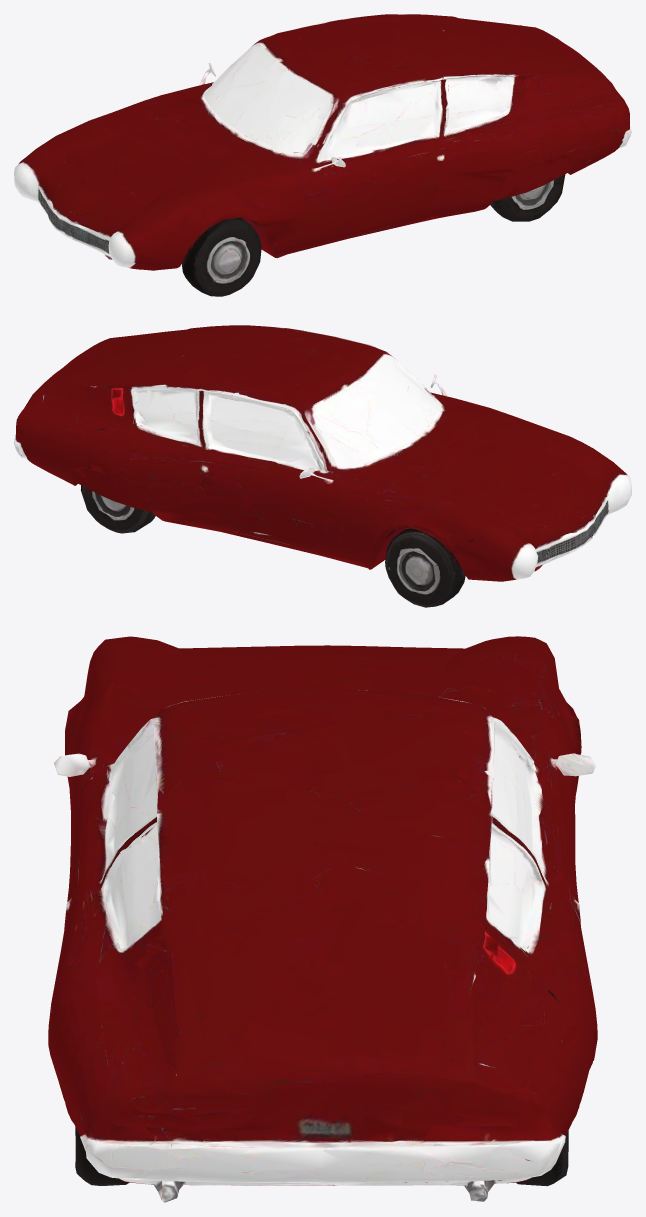
The model's file is getkong-mcar4-lo.glb.
3 views of the same model, one above another, from view 1: azimuth 30°, elevation 25°; view 2: azimuth 150°, elevation 25°; view 3: azimuth 270°, elevation 25° (orthographic). The views are drawn at different scales.
Visible parts, largest first — view 1: output_unwrapped; view 2: output_unwrapped; view 3: output_unwrapped.
Part boxes in pixels (x1,y1,x2,y2): output_unwrapped: (14, 14, 631, 296); output_unwrapped: (14, 325, 631, 607); output_unwrapped: (48, 636, 597, 1202).
Bounding box in the file's own units: 1.9 × 0.559 × 0.8665.
1 material, 1 textured.
